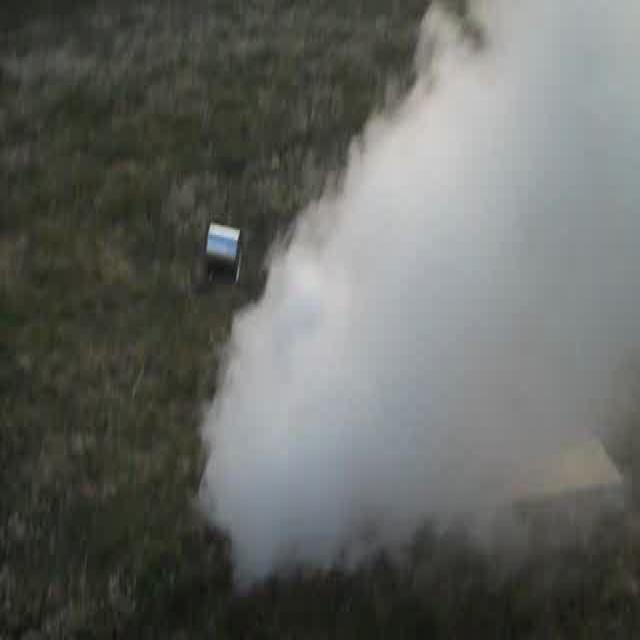Smoke: (210, 4, 640, 594)
